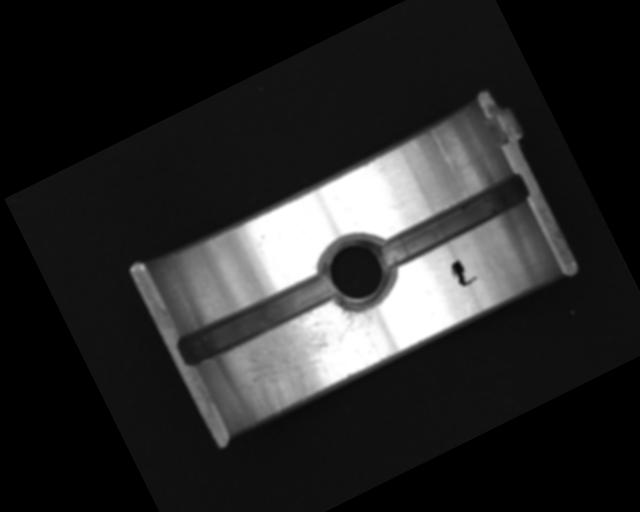blot: (446, 255, 478, 291)
gap: (173, 267, 338, 372), (376, 172, 532, 270)
hole: (312, 226, 406, 320)
nick: (429, 129, 458, 174)
scratch: (220, 284, 397, 423)
